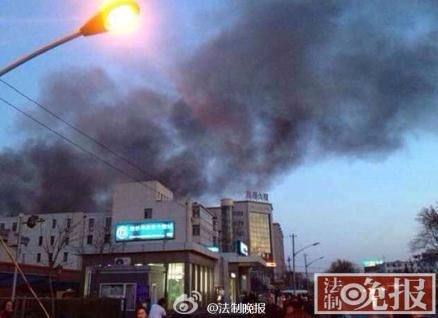smoke: (63, 50, 434, 152)
